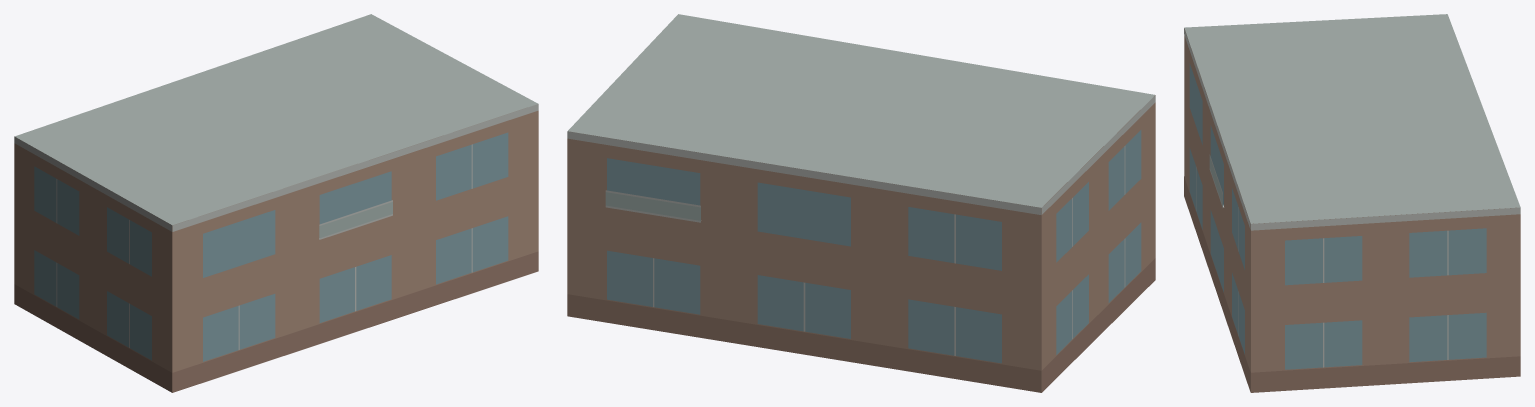
File: survey-upis-33045196.glb
3 renders of one model, left to right at view 1: azimuth 30°, elevation 25°; view 2: azimuth 150°, elevation 25°; view 3: azimuth 270°, elevation 25°, orthographic. The views are drawn at different scales.
Visible parts, largest first — view 1: survey-upis-33045196.tmp; view 2: survey-upis-33045196.tmp; view 3: survey-upis-33045196.tmp.
Part boxes in pixels (x1,y1,x2,y2): survey-upis-33045196.tmp: (14,14,538,392); survey-upis-33045196.tmp: (567,14,1155,392); survey-upis-33045196.tmp: (1184,14,1520,392).
Bounding box in the file's own units: 16.26 × 6.1 × 11.02.
